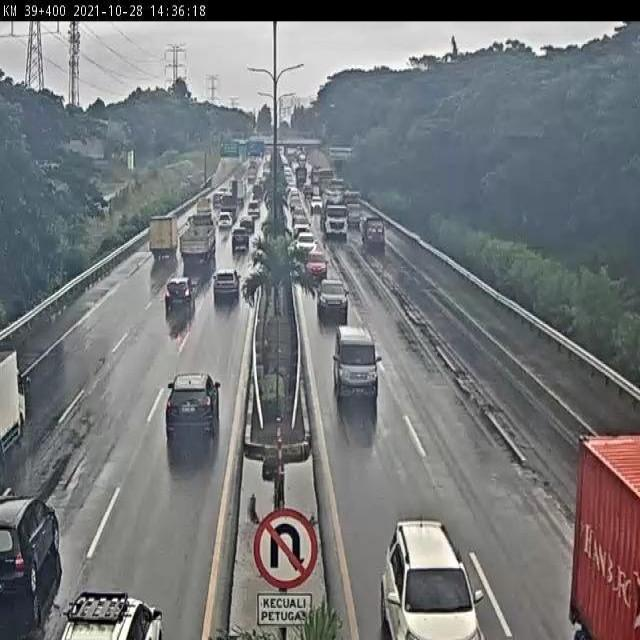big truck: (178, 220, 216, 268), (319, 200, 348, 237)
car: (381, 517, 483, 640), (330, 321, 380, 400), (165, 371, 222, 437), (161, 275, 196, 317), (316, 276, 349, 316), (210, 266, 241, 306), (304, 245, 329, 283), (295, 228, 316, 255), (229, 231, 249, 256), (238, 214, 256, 234), (216, 211, 232, 232)
small truck: (147, 212, 181, 263), (357, 213, 387, 251)
